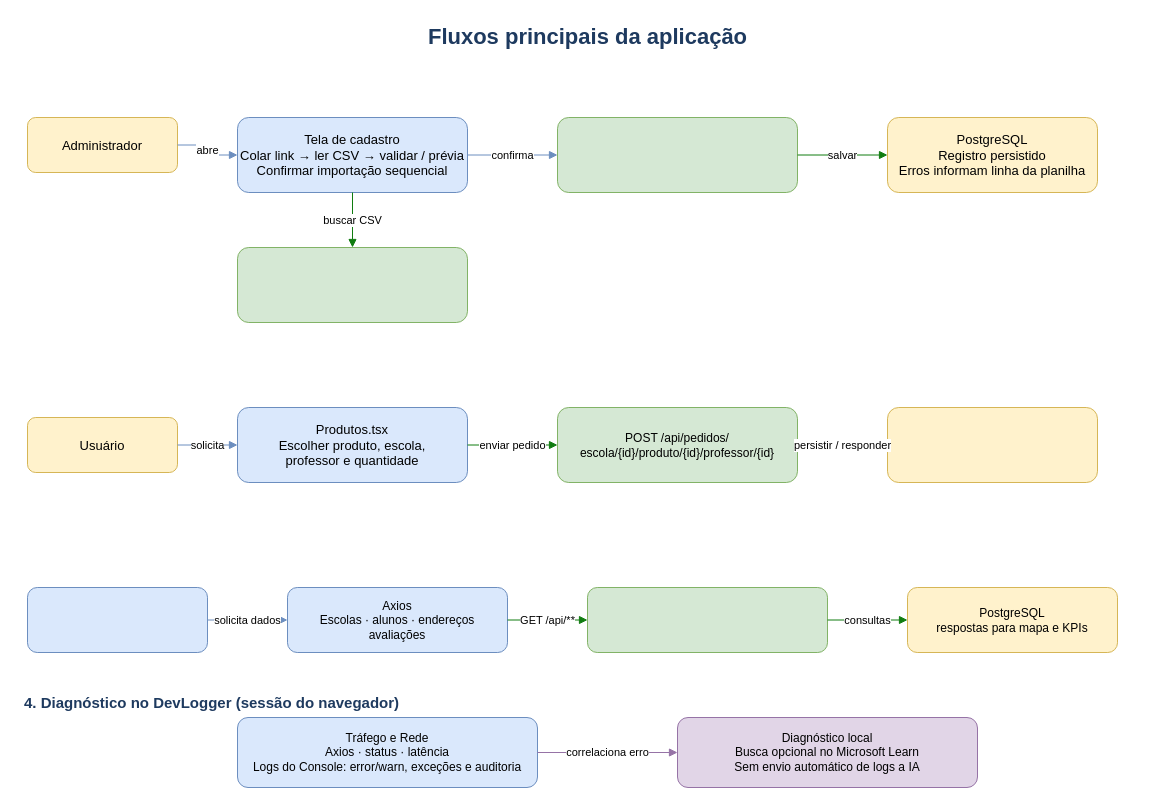
Image size: 1174x805. Some labels were removed from this diagram. The shapes that lost their labels are listed below. From the top down, each one's centre as x and y in pixels, then its label:
At [677,154]: "POST /api/{recurso} Controller → Service Repository".
At [352,284]: "Google Sheets Aba escolhida pelo gid CSV público de leitura".
At [992,444]: "PedidoService Validar relações → PostgreSQL Retornar confirmação".
At [117,619]: "Dashboard.tsx Carregar mapa e KPIs".
At [707,619]: "API Spring Boot Controllers → Services → Repositories".
